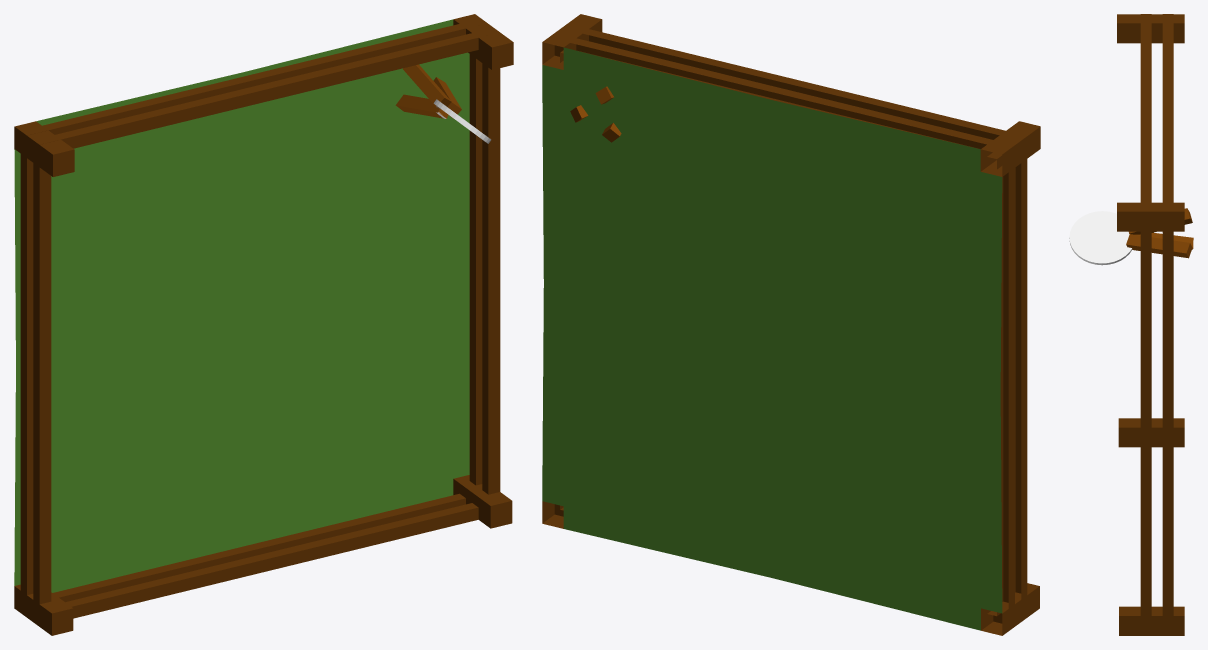
Rendered from Лагерь1Origin.fbx.
3 views of the same model, side by side, from view 1: azimuth 30°, elevation 25°; view 2: azimuth 150°, elevation 25°; view 3: azimuth 270°, elevation 25° (orthographic). The views are drawn at different scales.
Visible parts, largest first — view 1: Лагерь1; view 2: Лагерь1; view 3: Лагерь1.
Part boxes in pixels (<box>): Лагерь1: <box>14,14,513,635</box>; Лагерь1: <box>542,14,1040,635</box>; Лагерь1: <box>1069,14,1193,635</box>.
Size of the model in its own units: 2 by 2 by 0.5303.
